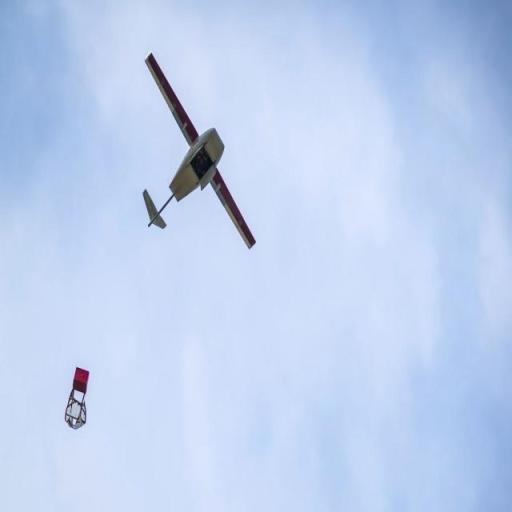uav: (133, 42, 260, 270)
